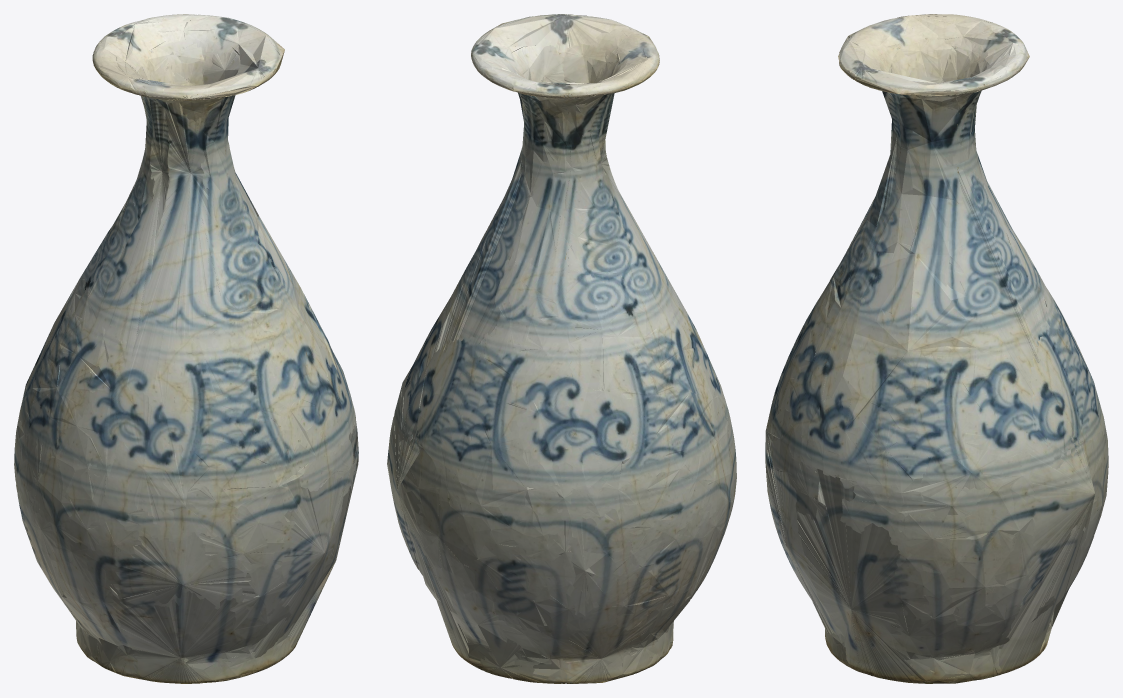
3 views of the same model, side by side, from view 1: azimuth 30°, elevation 25°; view 2: azimuth 150°, elevation 25°; view 3: azimuth 270°, elevation 25° (orthographic).
Parts seen in each view (by area): view 1: geometry_0; view 2: geometry_0; view 3: geometry_0.
Boxes of the visible parts, x1,y1,x2,y2 form: geometry_0: [14, 14, 358, 683]; geometry_0: [387, 14, 736, 683]; geometry_0: [765, 14, 1108, 683].
Size of the model in its own units: 0.5344 by 1 by 0.5261.
1 material, 1 textured.
